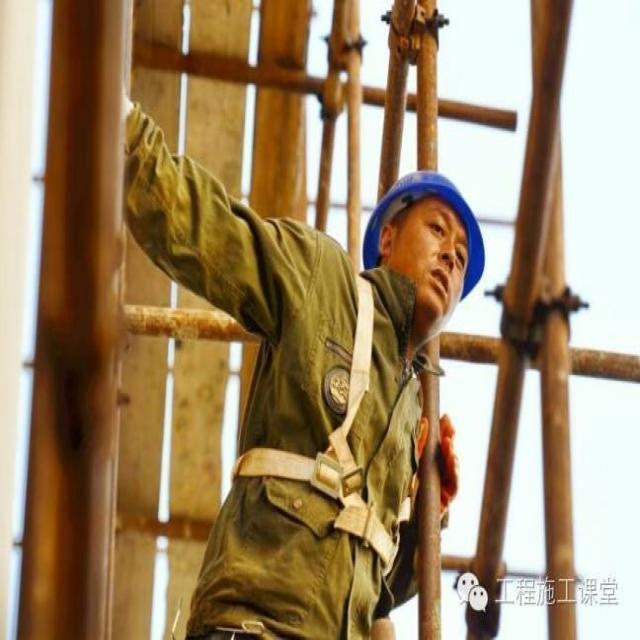Arnes_seguridad: (226, 255, 416, 569)
